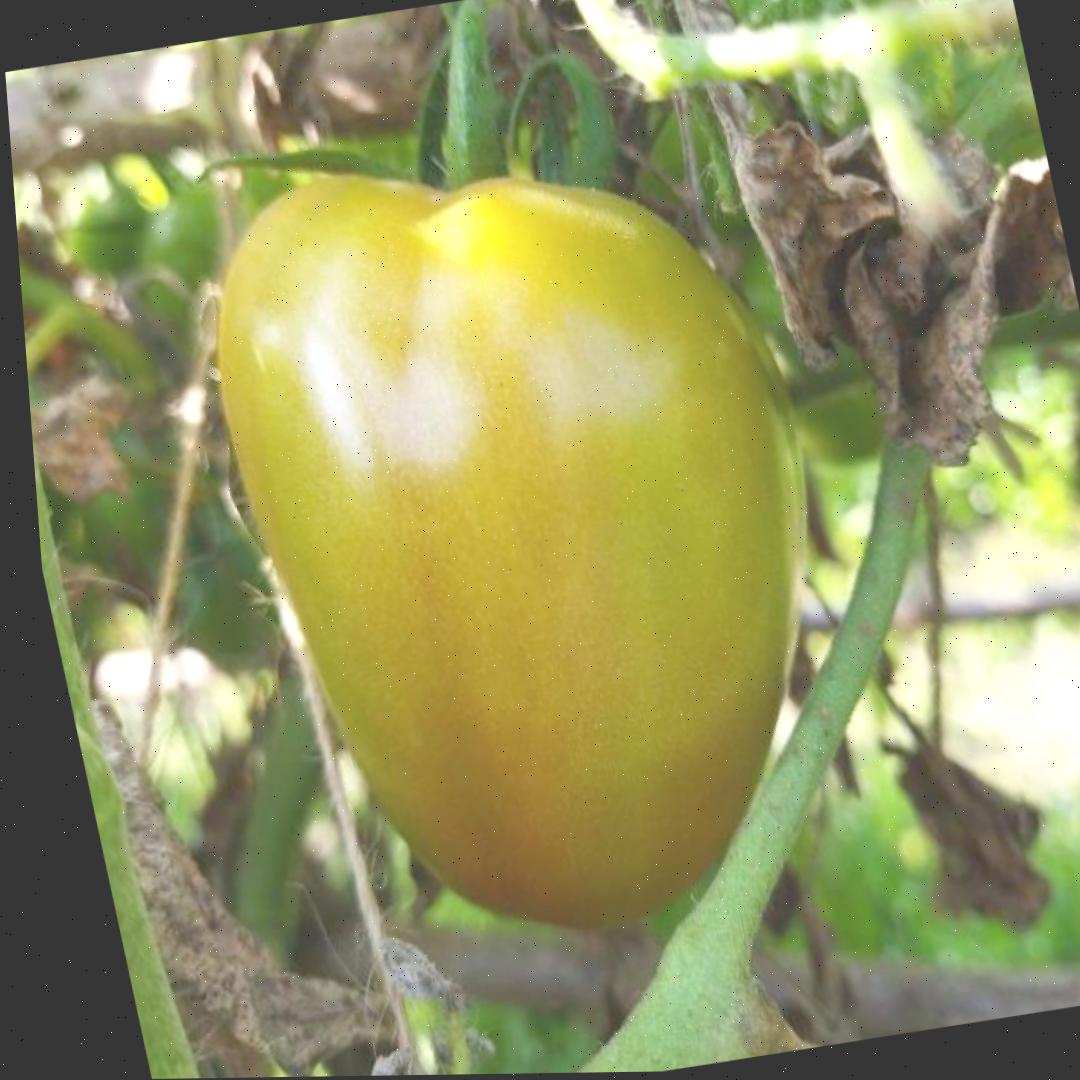setengah_matang: (166, 106, 909, 979)
